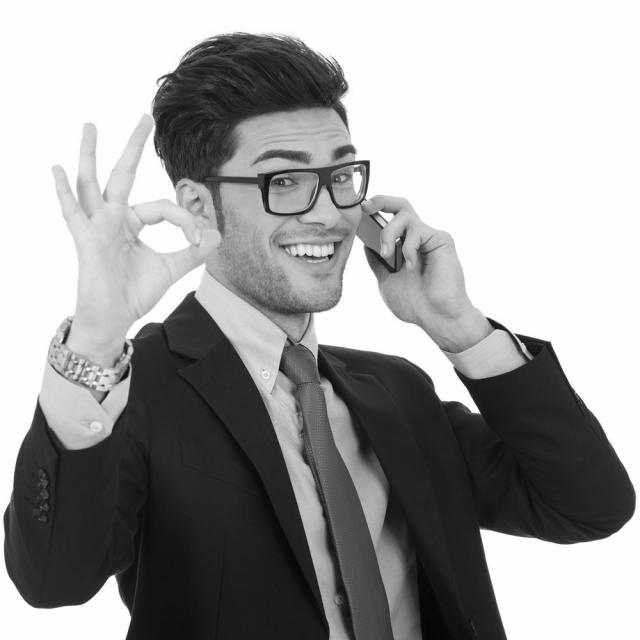phone: (310, 141, 446, 329)
